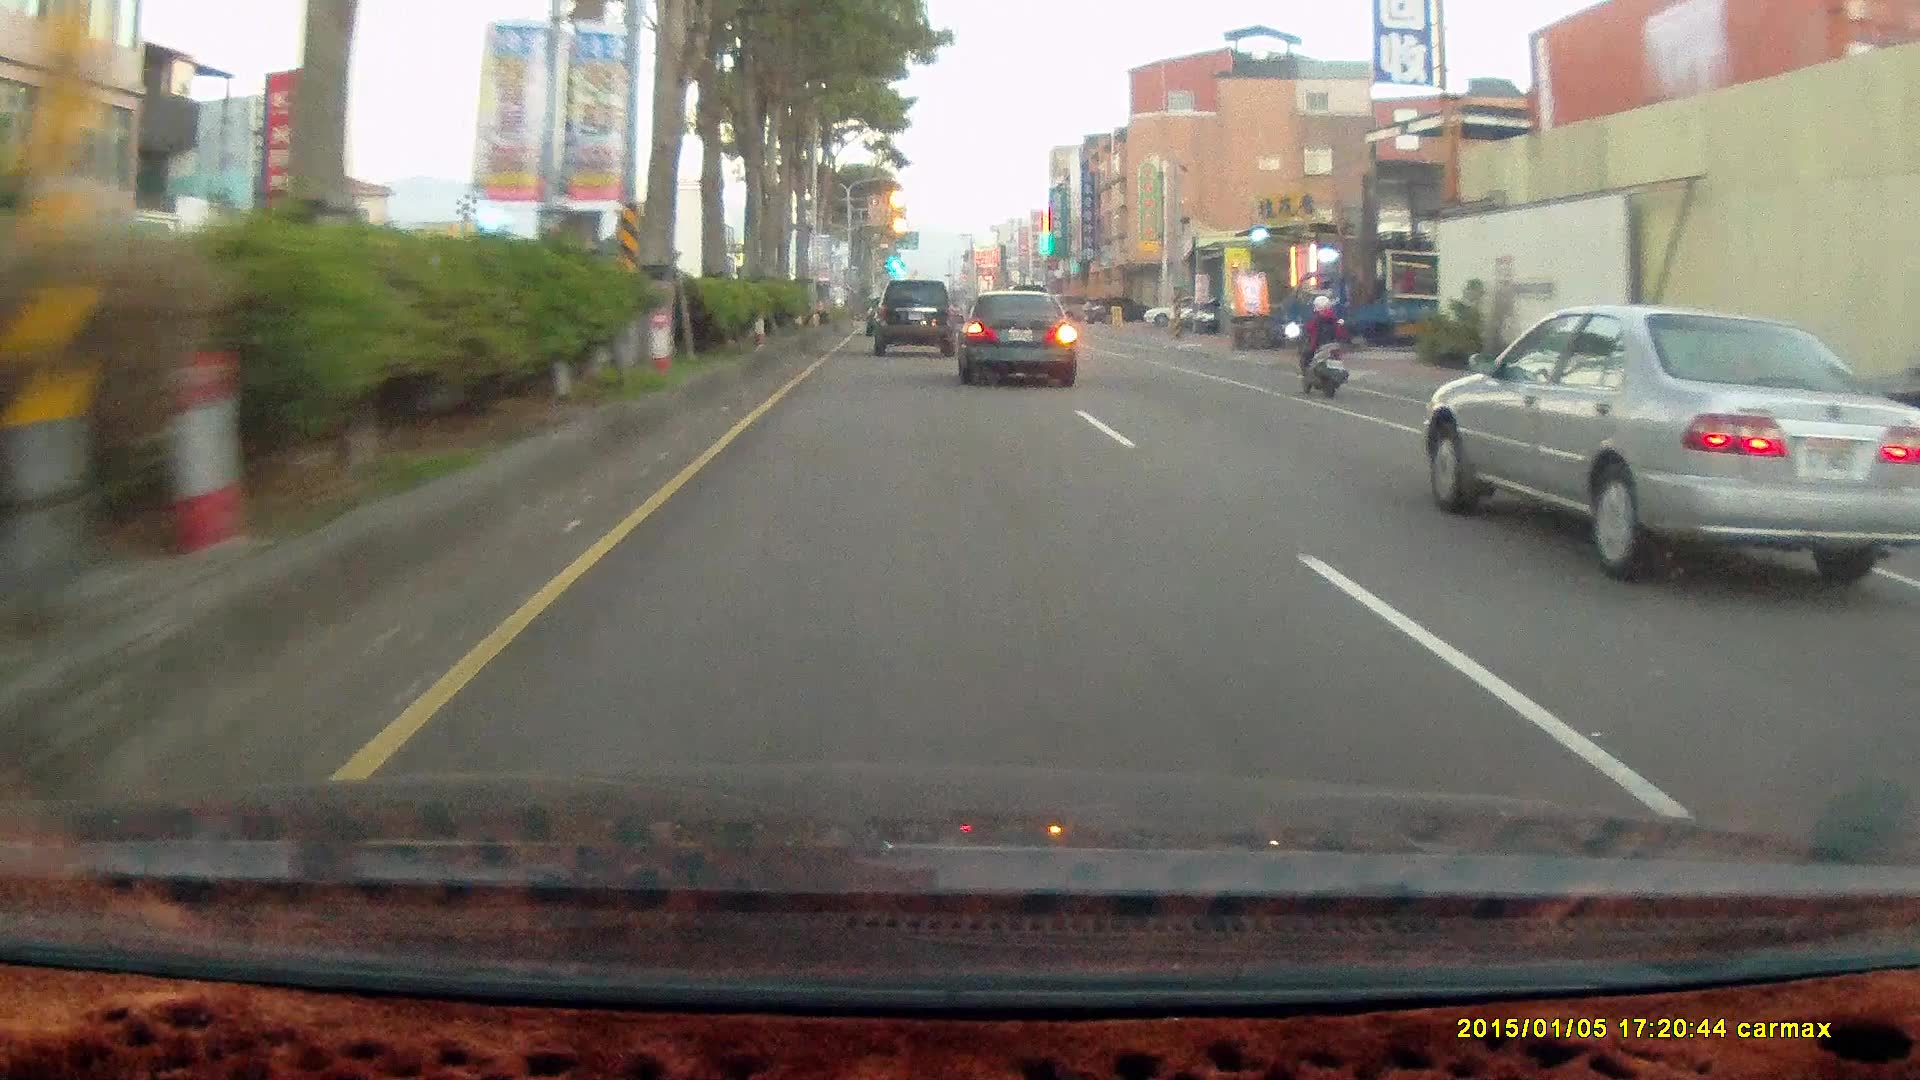rider: (1285, 285, 1359, 408), (1292, 289, 1349, 397)
vehicle: (1426, 305, 1920, 580), (1425, 303, 1910, 575), (1281, 268, 1493, 357), (1287, 269, 1445, 350), (951, 286, 1077, 385), (963, 295, 1086, 388), (872, 280, 957, 353), (875, 282, 959, 354), (1142, 296, 1207, 326), (1087, 295, 1152, 321)
